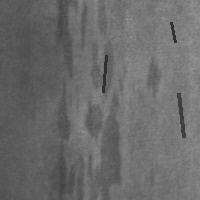inclusion: (55, 73, 126, 198), (52, 1, 88, 80), (90, 1, 116, 96), (144, 55, 162, 106), (176, 91, 185, 139), (101, 53, 108, 94), (169, 20, 177, 44)
